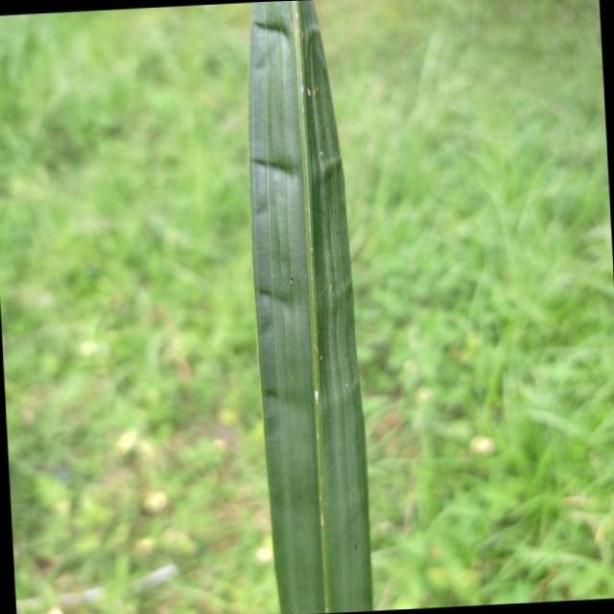Boron: (249, 0, 371, 614)
